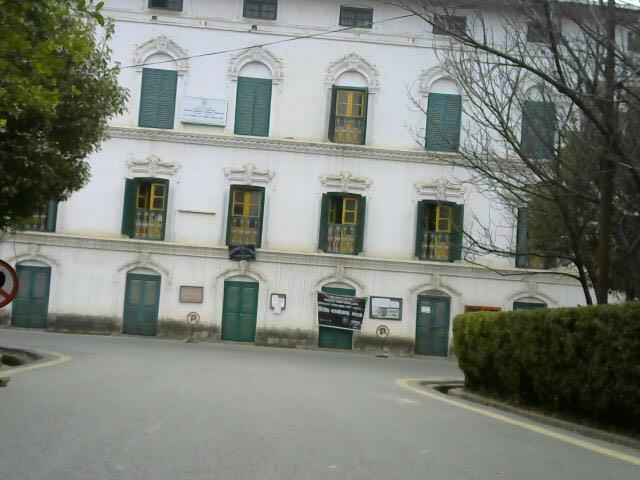Building: (86, 1, 496, 368)
Road: (0, 340, 564, 477)
Traffic sign: (371, 322, 406, 370), (183, 307, 206, 356), (1, 259, 19, 312)
Tree: (423, 5, 640, 292), (3, 0, 97, 217)
